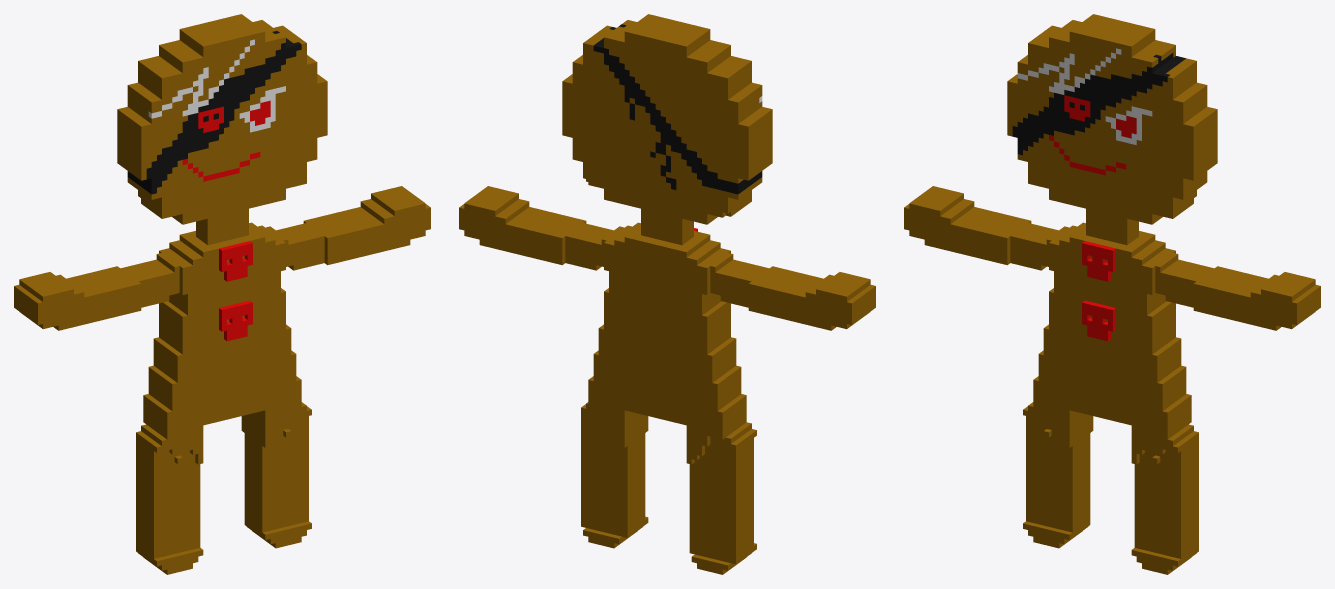
Rendered from NEW_cookie.fbx.
3 renders of one model, left to right at view 1: azimuth 30°, elevation 25°; view 2: azimuth 150°, elevation 25°; view 3: azimuth 330°, elevation 25°, orthographic.
Parts seen in each view (by area): view 1: cookie_brave:polySurface1; view 2: cookie_brave:polySurface1; view 3: cookie_brave:polySurface1.
Boxes of the visible parts, x1,y1,x2,y2 form: cookie_brave:polySurface1: [14, 14, 430, 574]; cookie_brave:polySurface1: [459, 14, 875, 574]; cookie_brave:polySurface1: [904, 14, 1320, 574].
Bounding box in the file's own units: 4.07 × 5.14 × 0.4815.
1 material, 1 textured.
